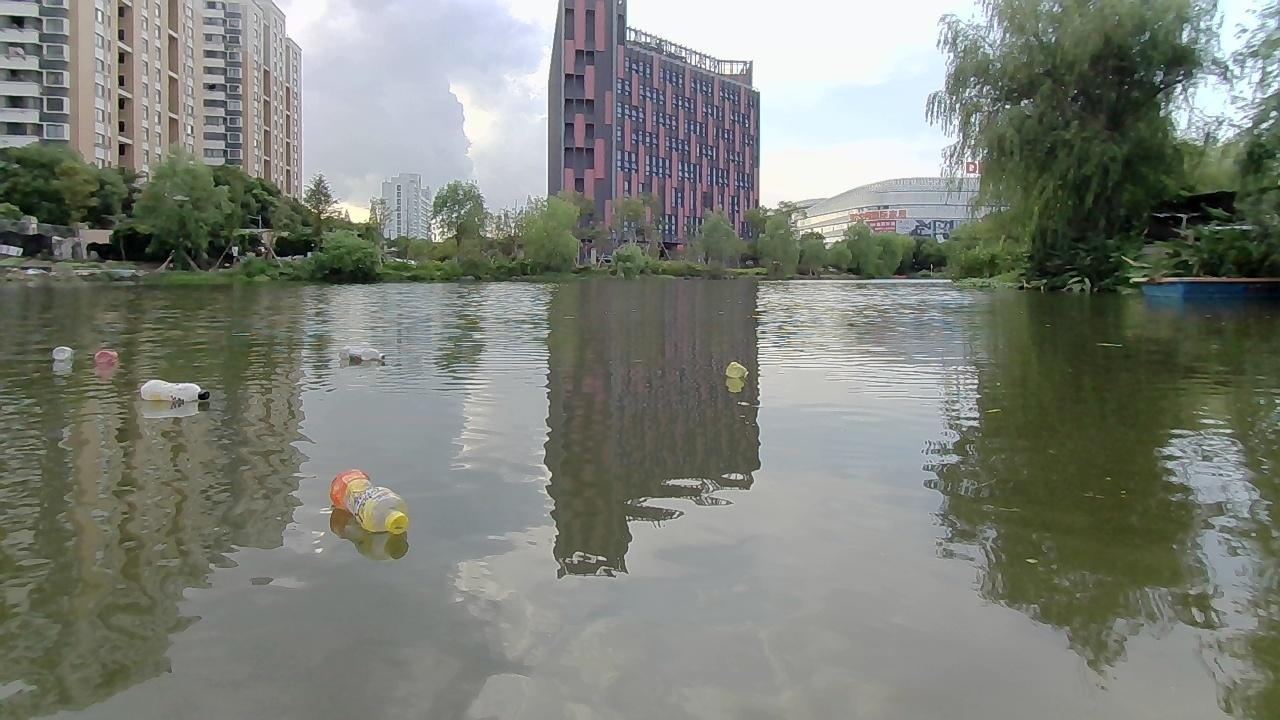bottle: (321, 465, 413, 537), (136, 376, 211, 411), (336, 343, 391, 368), (46, 341, 76, 367), (721, 358, 750, 383), (94, 347, 116, 367)
